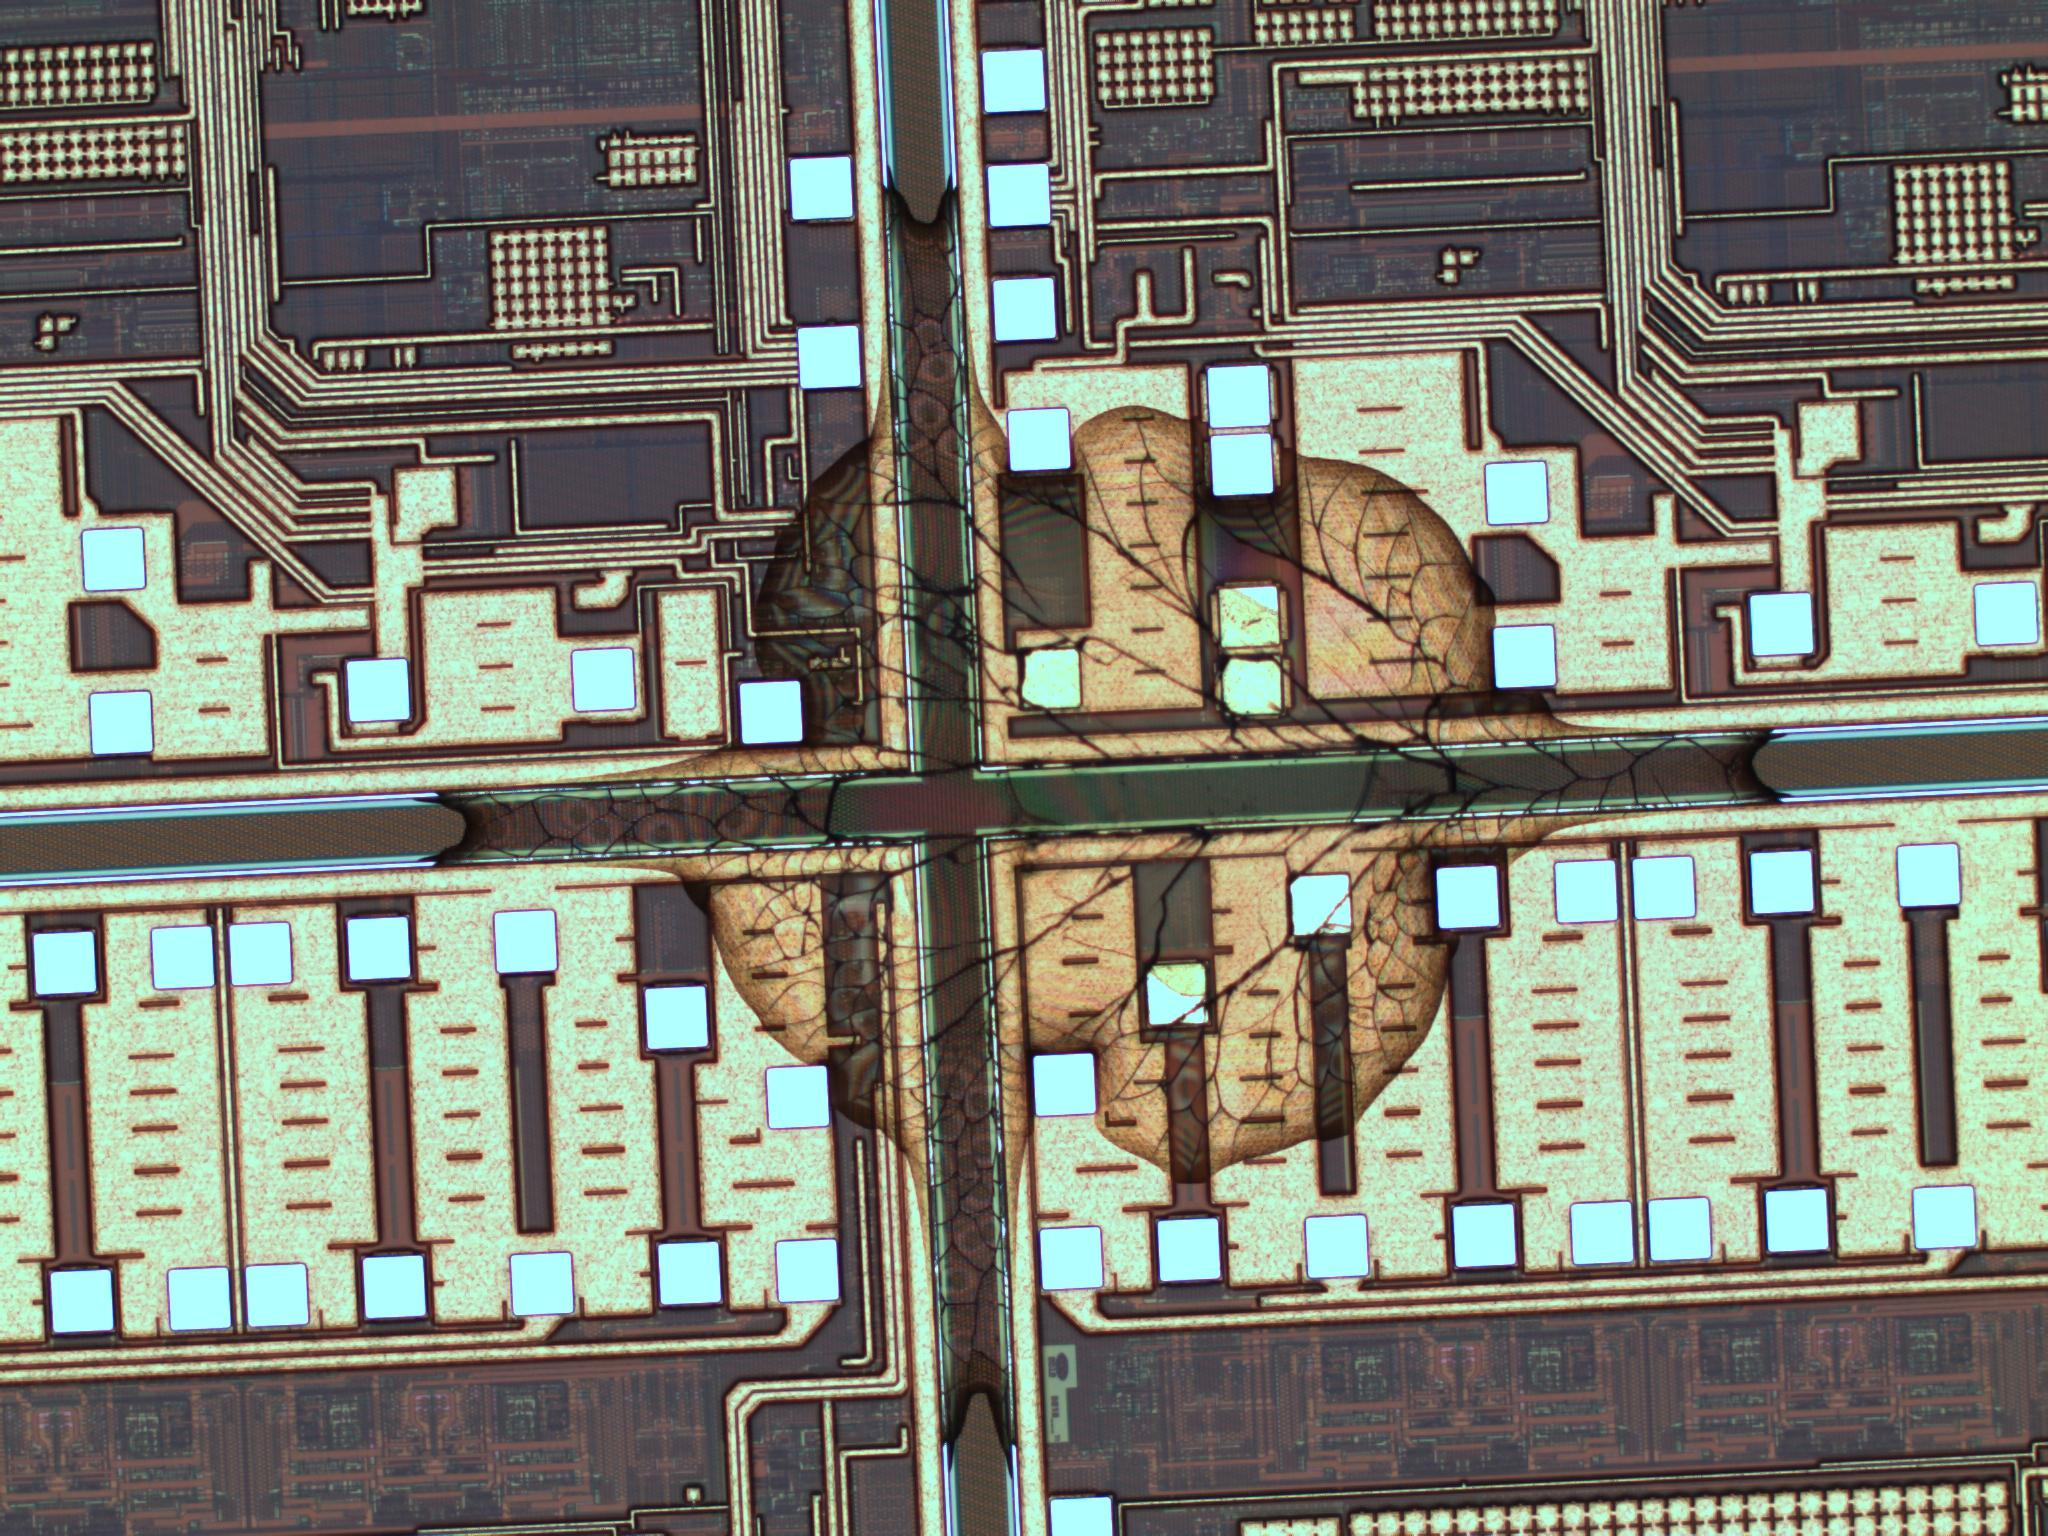PO CONTAMINATION: (400, 158, 1796, 1483)
